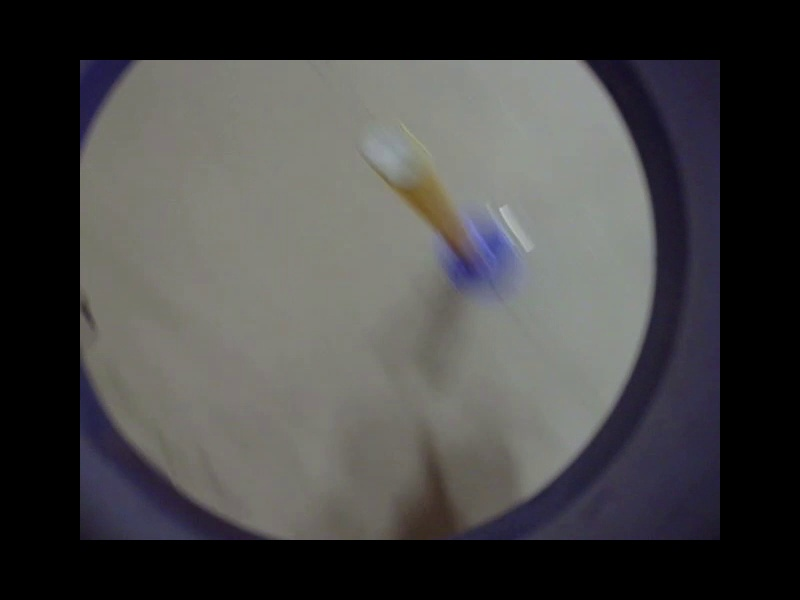tip: (392, 33, 512, 150)
